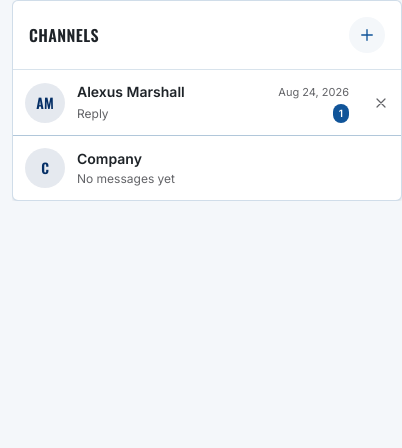
TeamMessages › gives mobile a way back from a thread to the conversation list
This screenshot has width=402, height=448.
Click the button with aria-label "Open conversation with Alexus Marshall" at coordinates (187, 102), box [13, 70, 361, 135]
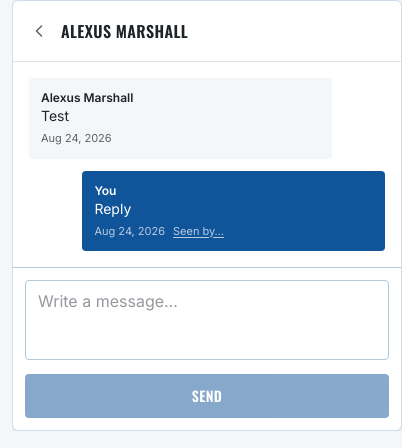
expect the button named "Back to conversations" is shown: met, box [21, 13, 57, 49]
